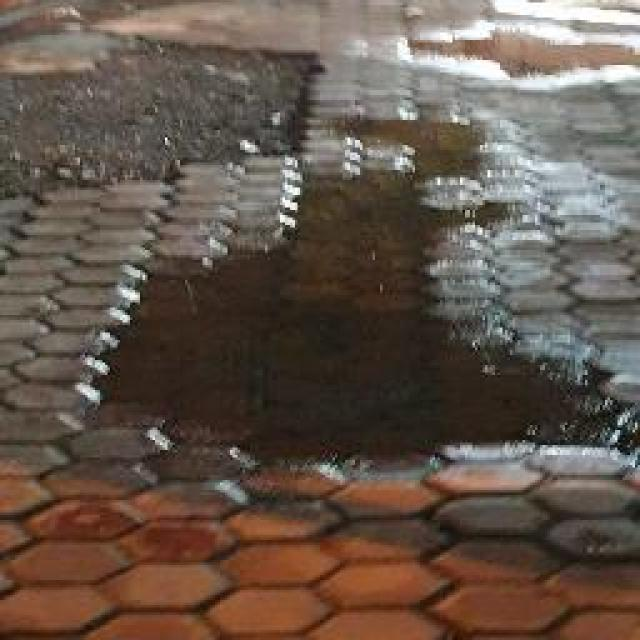stagnation: (99, 236, 632, 469)
